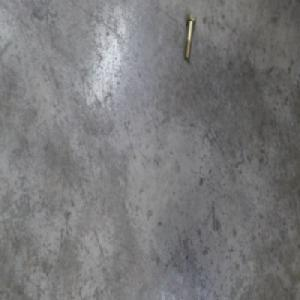Bolt: (183, 12, 197, 60)
